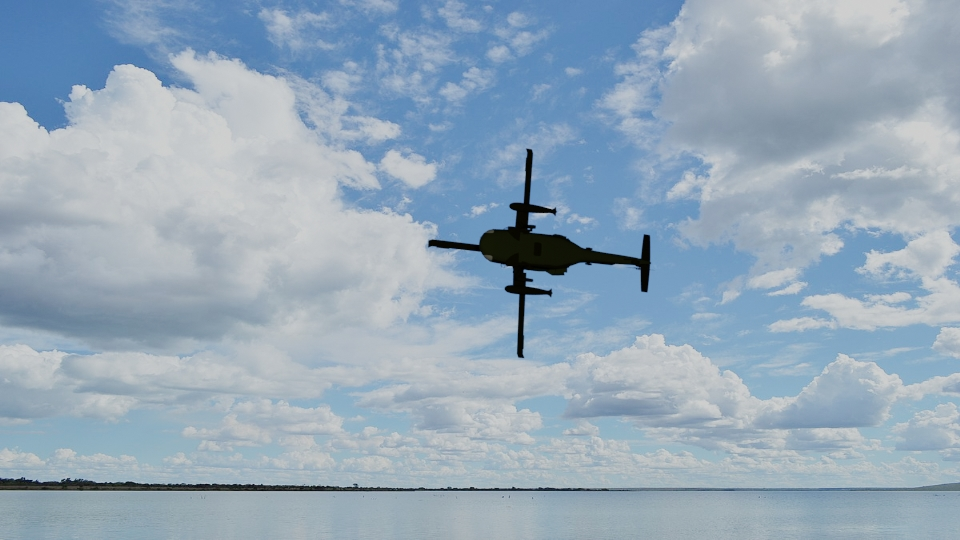heli: (420, 148, 651, 358)
